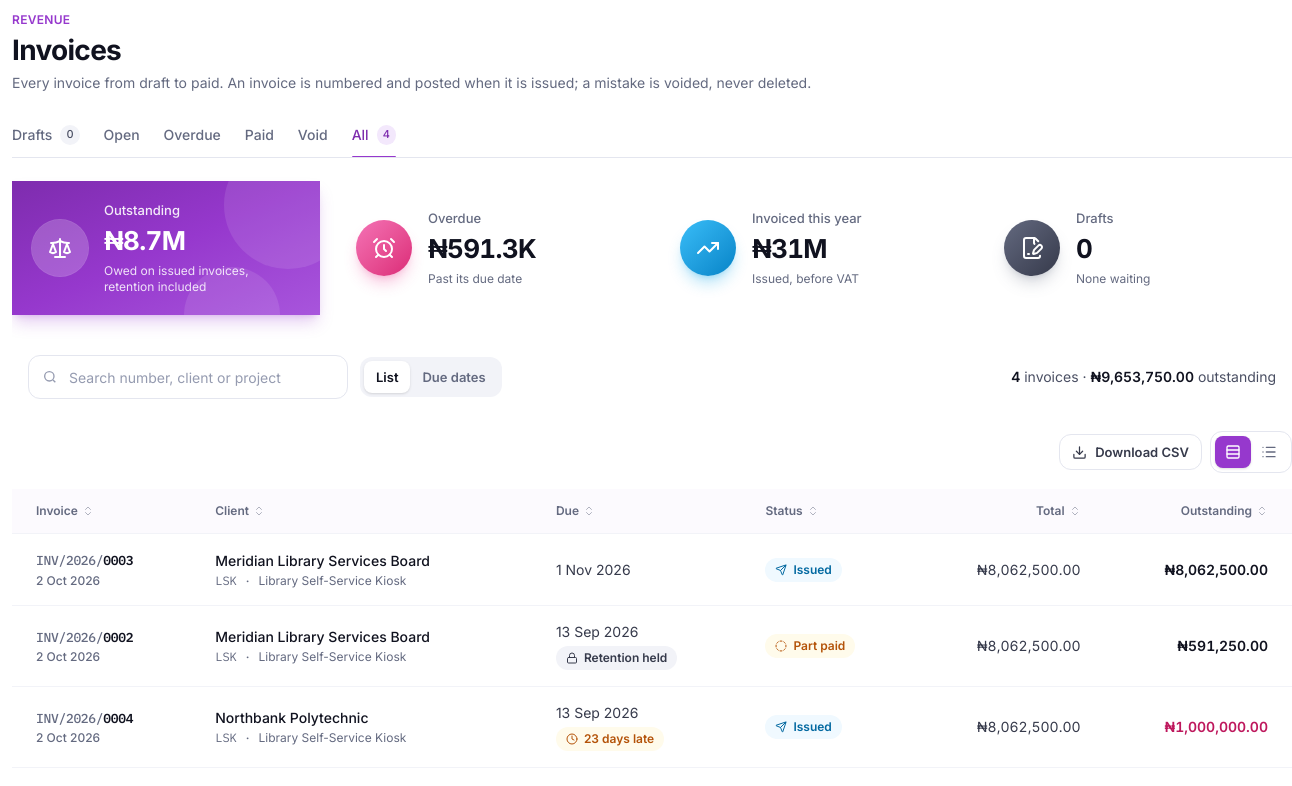
it: InvoicesBoard › searches by client and number, and offers a new invoice only to those who may raise one
The image size is (1292, 786).
Type "eastgate" into the search field named "Search invoices" at {"x": 188, "y": 377}, box 28,355 -> 348,399
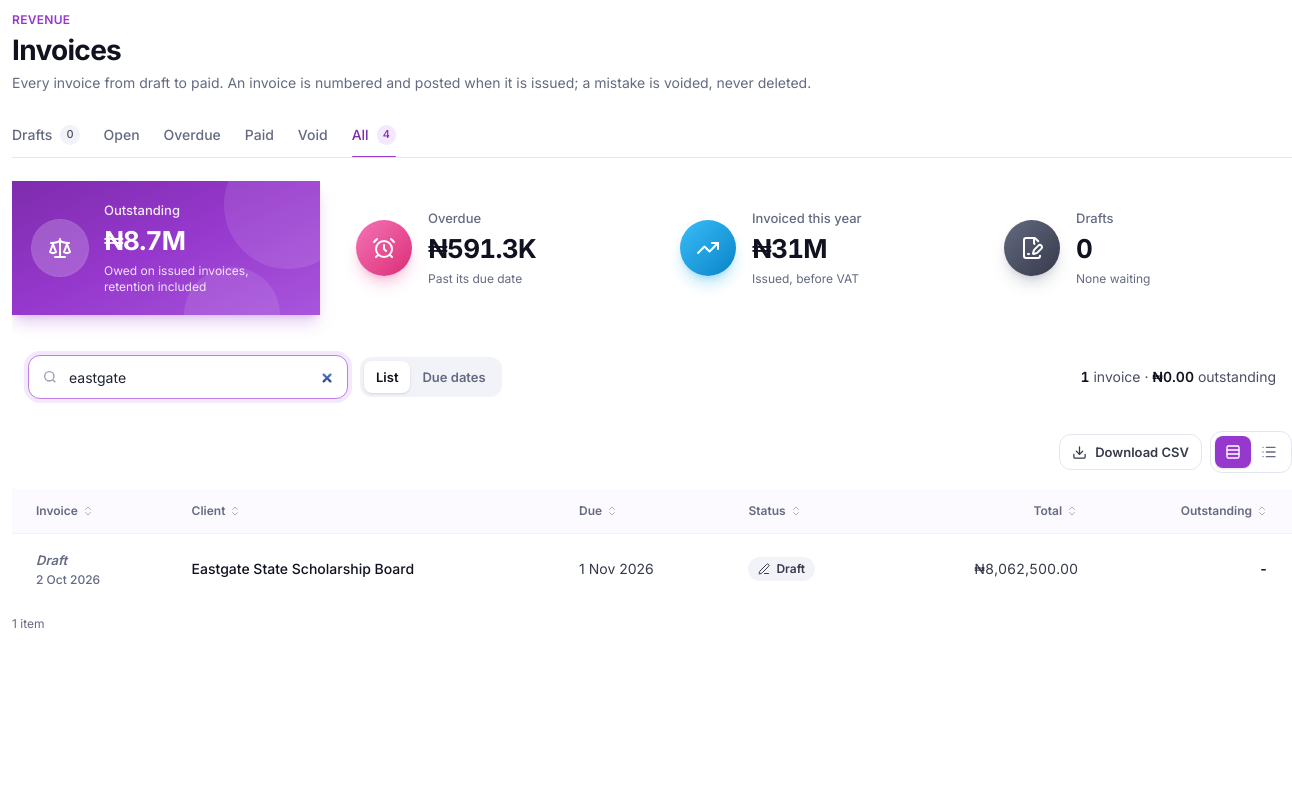
Check: the text "Eastgate State Scholarship Board" is shown, box 192,560 -> 414,577
Check: the text "Meridian Library Services Board" is gone
